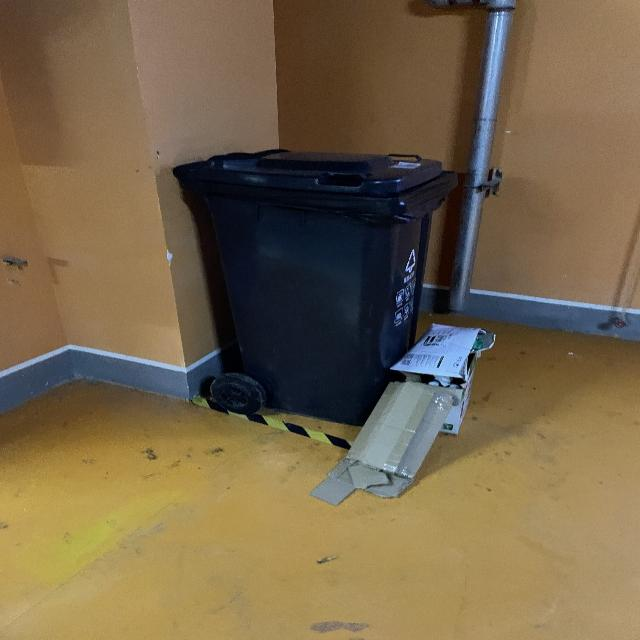garbage: (310, 321, 495, 506)
garbage_bin: (169, 147, 459, 424)
